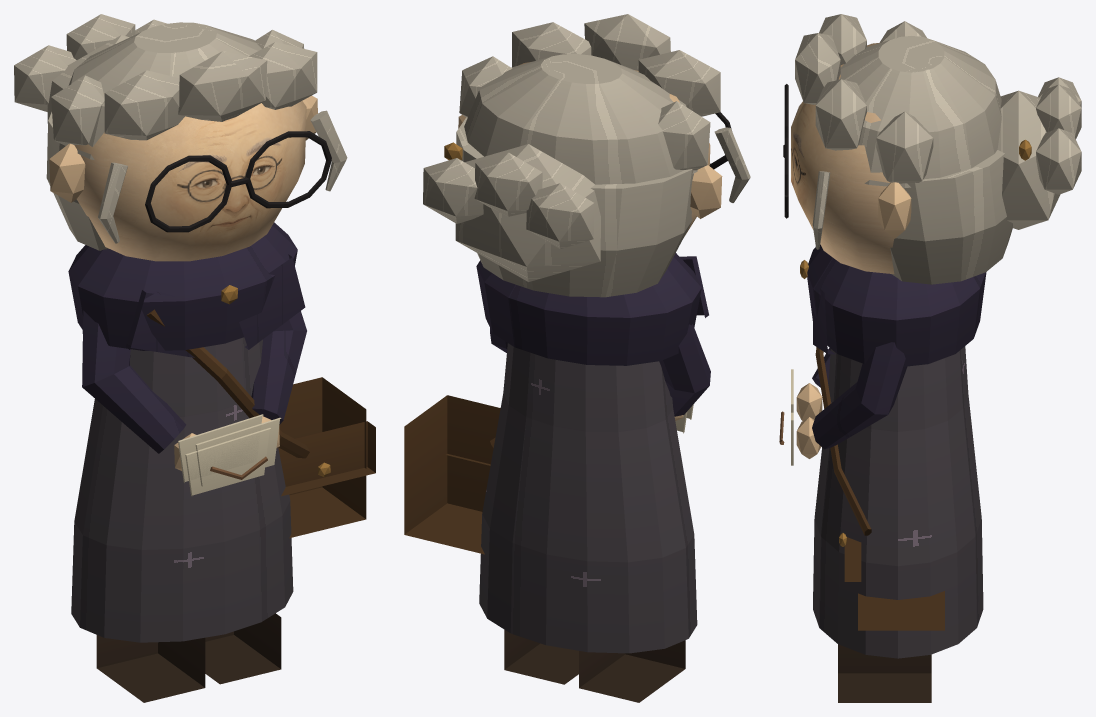
File: maeve-v01.glb
3 renders of one model, left to right at view 1: azimuth 30°, elevation 25°; view 2: azimuth 150°, elevation 25°; view 3: azimuth 270°, elevation 25°, orthographic.
Parts seen in each view (by area): view 1: dress, skull, capelet, satchel, hair_crown, sleeve_l, boot_l, hair_layer_1, satchel_flap, hair_layer_0, boot_r, sleeve_r (+17 smaller); view 2: dress, hair_crown, capelet, hair_back, satchel, archive_bun, boot_l, bun_layer_0, hair_layer_0, bun_layer_1, hair_layer_1, bun_layer_2 (+7 smaller); view 3: dress, hair_crown, capelet, hair_back, skull, archive_bun, sleeve_r, boot_r, hair_layer_4, hair_layer_2, satchel, hair_layer_1 (+11 smaller).
Part boxes in pixels (left/top/right/bottom): dress: left=71, top=337, right=293, bottom=642; skull: left=74, top=101, right=306, bottom=261; capelet: left=68, top=222, right=297, bottom=350; satchel: left=279, top=377, right=366, bottom=538; hair_crown: left=63, top=22, right=261, bottom=159; sleeve_l: left=82, top=310, right=186, bottom=453; boot_l: left=96, top=635, right=205, bottom=702; hair_layer_1: left=178, top=51, right=267, bottom=121; satchel_flap: left=278, top=421, right=375, bottom=496; hair_layer_0: left=104, top=70, right=184, bottom=140; boot_r: left=205, top=613, right=281, bottom=684; sleeve_r: left=251, top=311, right=306, bottom=424; dress: left=479, top=343, right=697, bottom=653; hair_crown: left=464, top=54, right=697, bottom=184; capelet: left=476, top=253, right=701, bottom=365; hair_back: left=456, top=117, right=693, bottom=297; satchel: left=404, top=395, right=500, bottom=554; archive_bun: left=455, top=144, right=600, bottom=281; boot_l: left=579, top=640, right=685, bottom=702; bun_layer_0: left=526, top=183, right=594, bottom=249; hair_layer_0: left=638, top=50, right=720, bottom=116; bun_layer_1: left=474, top=152, right=542, bottom=216; hair_layer_1: left=584, top=14, right=670, bottom=70; bun_layer_2: left=423, top=158, right=483, bottom=223; dress: left=813, top=346, right=983, bottom=658; hair_crown: left=839, top=36, right=1001, bottom=187; capelet: left=807, top=244, right=986, bottom=366; hair_back: left=890, top=150, right=1012, bottom=284; skull: left=791, top=42, right=894, bottom=274; archive_bun: left=997, top=90, right=1060, bottom=229; sleeve_r: left=812, top=342, right=907, bottom=449; boot_r: left=838, top=644, right=931, bottom=702; hair_layer_4: left=876, top=111, right=933, bottom=183; hair_layer_2: left=815, top=79, right=866, bottom=150; satchel: left=858, top=591, right=944, bottom=630; hair_layer_1: left=795, top=33, right=840, bottom=104.
Bounding box in the file's own units: 1.03 × 2.1 × 0.9028.
2 materials, 2 textured.
